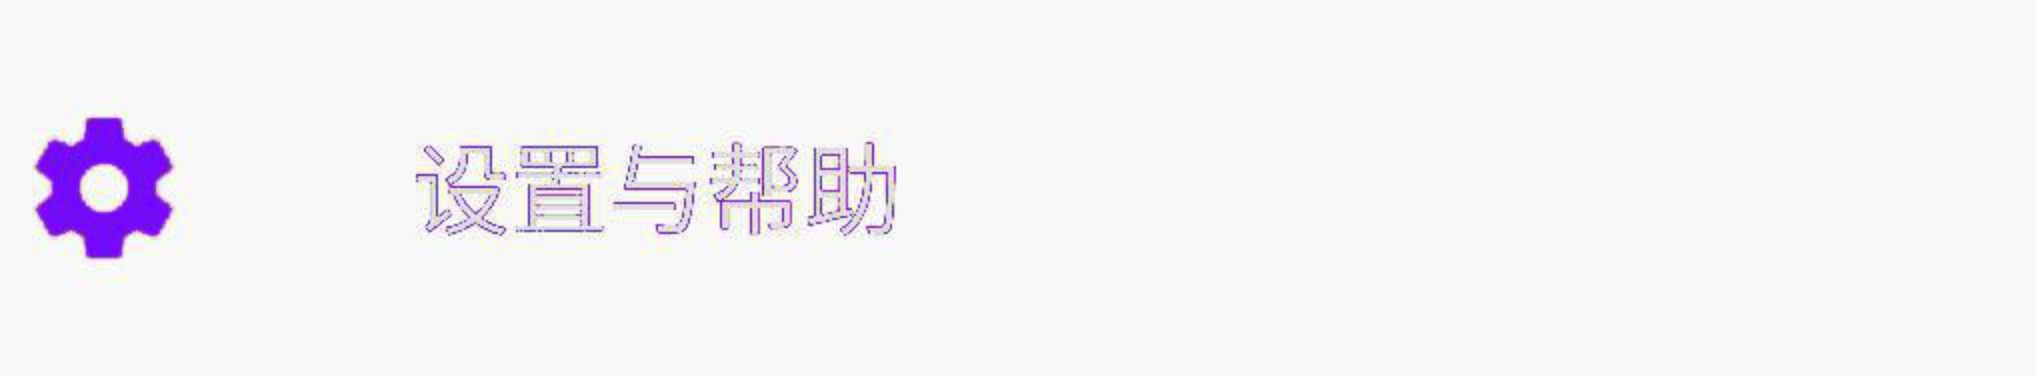CheckedTextView: (1, 1, 2035, 375)
